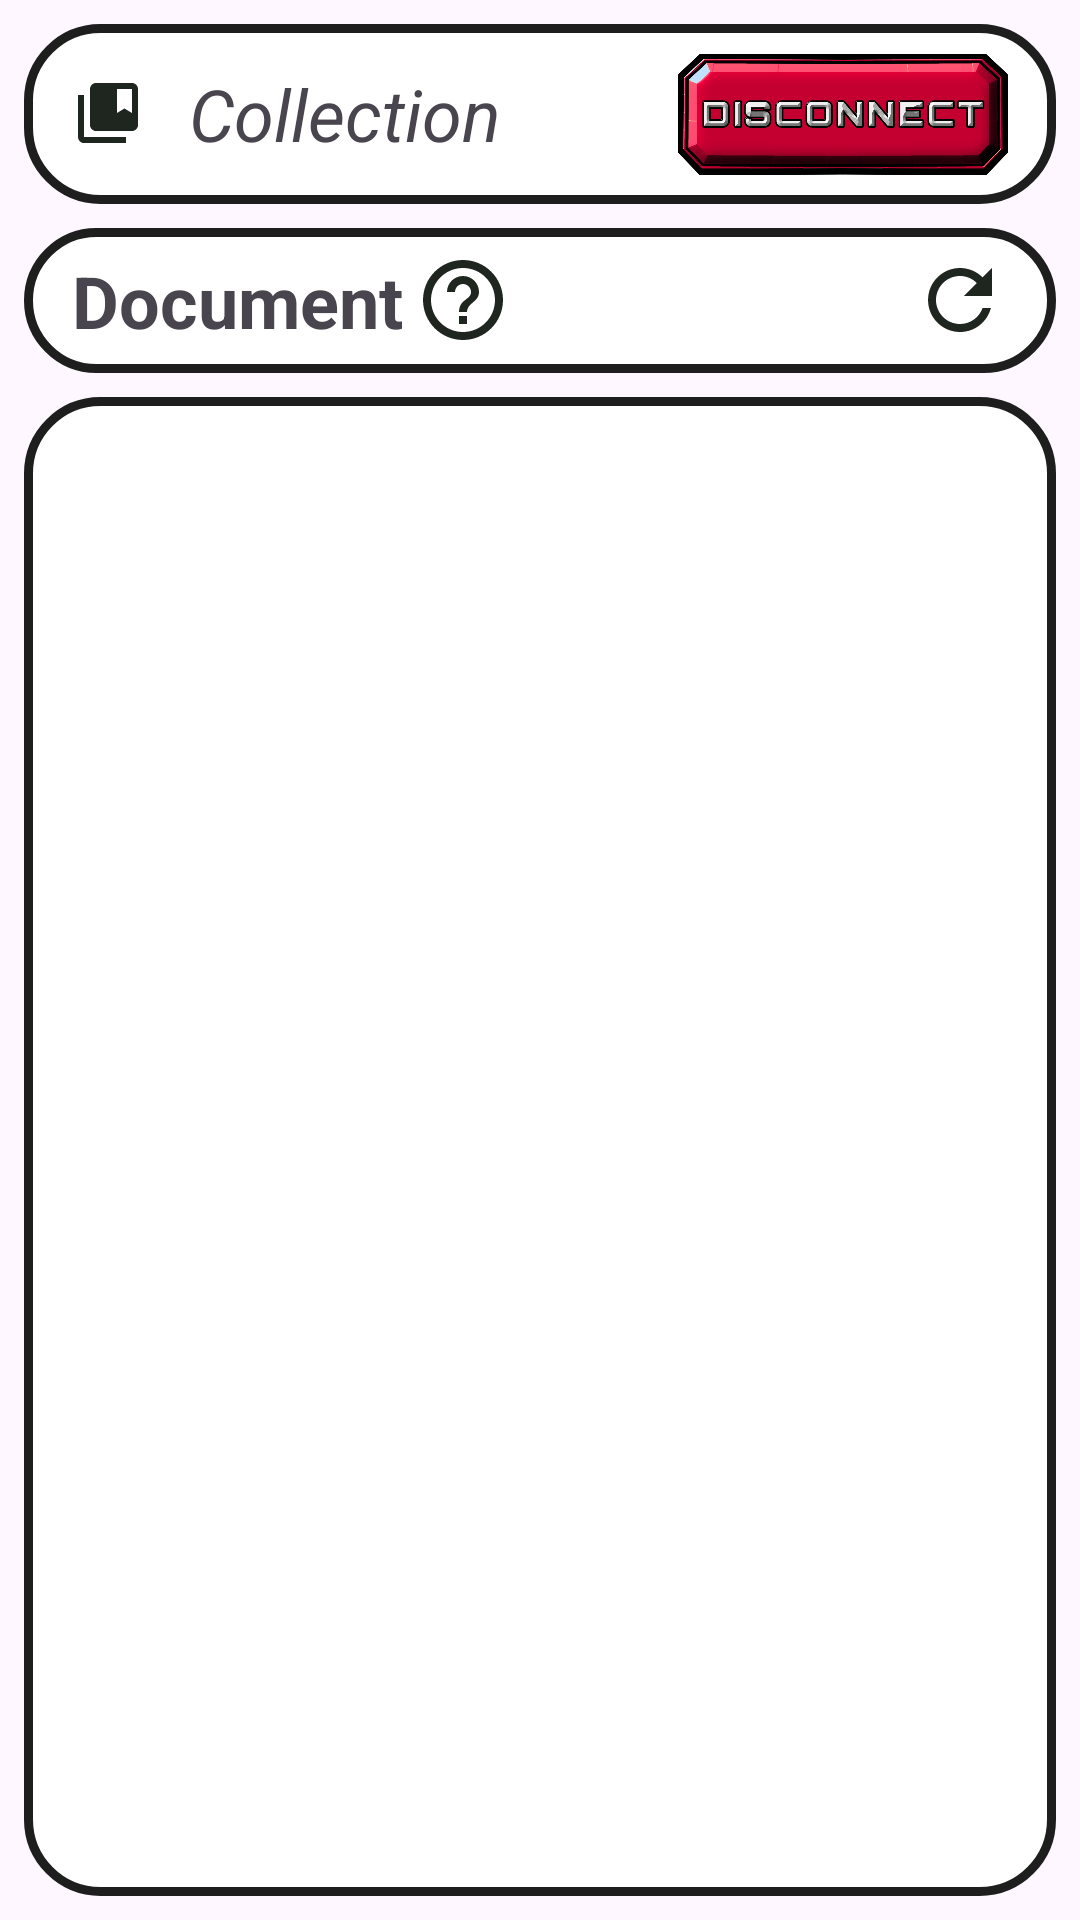

Named icons in this screenshot (1080px x 1920px) and their bounding boxes, bbox(x1, y1, x2, y2):
help: bbox(423, 260, 503, 340)
refresh: bbox(928, 268, 992, 332)
